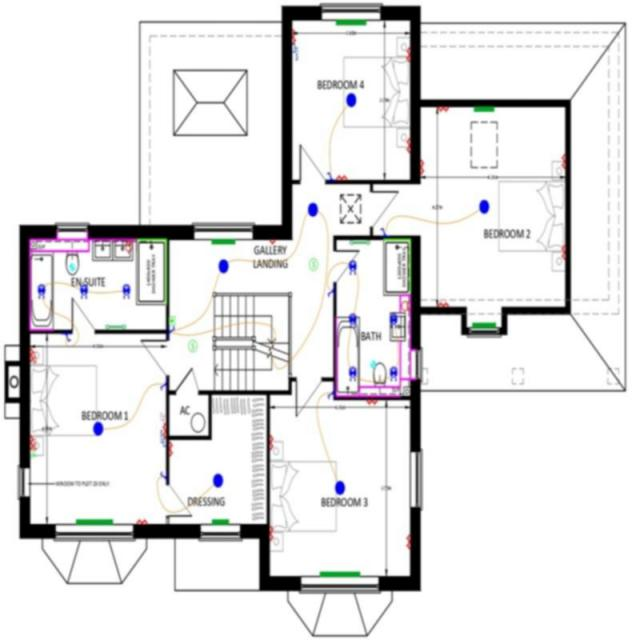Cat 6 Data Socket: (158, 428, 166, 446), (292, 43, 298, 60)
Ceiling Mounted Continuous Extract FanWith Boost Mode Activated By Light Switch: (370, 360, 376, 367), (69, 262, 74, 270)
Co-Ax TV Socket: (159, 412, 165, 422)
Double Socket: (419, 158, 425, 174), (366, 398, 378, 406), (404, 534, 410, 550), (404, 47, 410, 62), (160, 422, 166, 437), (268, 434, 274, 449), (404, 138, 410, 152), (268, 526, 274, 540), (168, 441, 173, 456), (560, 154, 565, 168), (560, 245, 565, 259), (437, 106, 448, 112), (437, 300, 448, 306), (291, 29, 296, 42), (336, 173, 346, 179), (136, 518, 146, 523)
Full Height Tiling: (138, 238, 166, 302), (383, 238, 410, 294)
Light Switch: (62, 333, 72, 341), (326, 288, 333, 296), (379, 227, 386, 234), (168, 325, 174, 332), (159, 382, 165, 389), (159, 471, 165, 478), (327, 391, 333, 398), (326, 172, 332, 178)
Low Energy Downlighter: (347, 366, 356, 380), (348, 312, 356, 327), (37, 284, 45, 298), (79, 284, 87, 298), (122, 284, 130, 298), (348, 260, 356, 274), (389, 366, 397, 380), (389, 312, 396, 327)
Low Energy Pendant Light: (478, 198, 489, 214), (307, 202, 318, 216), (346, 92, 356, 107), (218, 258, 228, 273), (334, 480, 344, 494), (212, 473, 222, 486), (93, 421, 102, 435)
Mains Wired Smoke Detector: (308, 256, 318, 270), (187, 338, 197, 352)
Programmable Room Thermostat: (168, 315, 174, 324)
Radiator: (75, 518, 112, 524), (319, 571, 359, 576), (335, 19, 366, 25), (210, 238, 234, 244), (472, 322, 495, 327), (472, 106, 493, 111), (211, 518, 228, 524)
Shaver Socket: (124, 238, 133, 254), (399, 300, 409, 310)
Single Socket: (269, 238, 274, 245)
Telephone Socket: (29, 450, 36, 458)
USB Double Socket: (29, 348, 37, 362), (29, 434, 36, 450)
